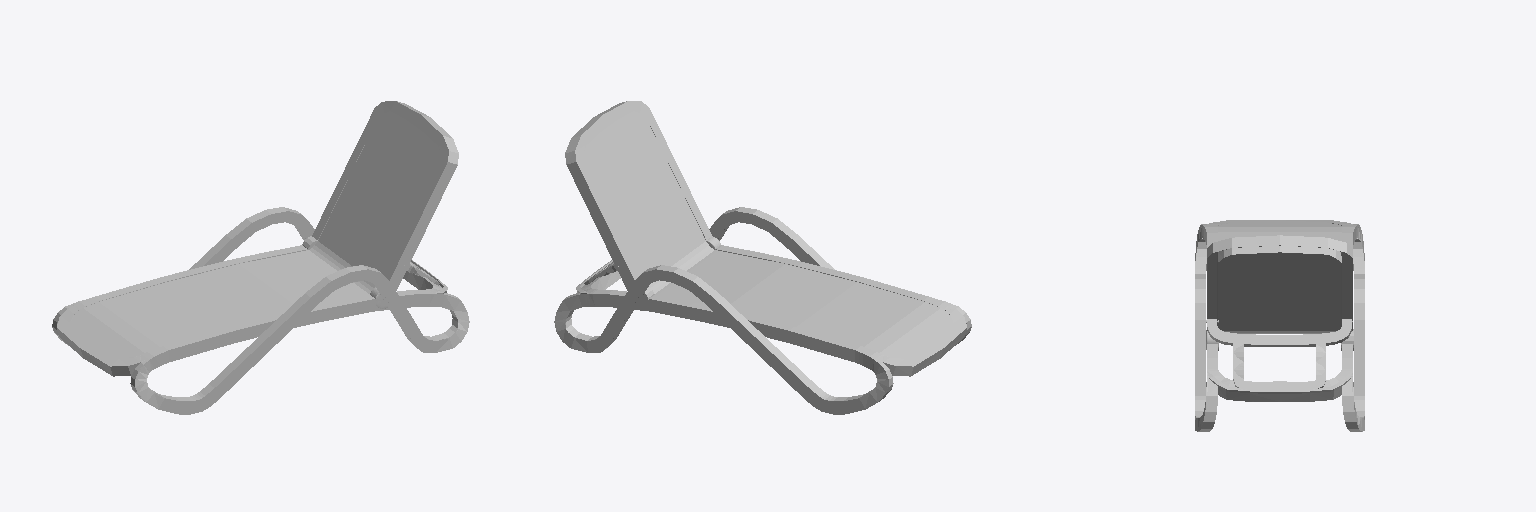
File: Sunlounger low.obj
The picture shows the model from 3 angles: view 1: azimuth 30°, elevation 25°; view 2: azimuth 150°, elevation 25°; view 3: azimuth 270°, elevation 25°; orthographic projection.
Visible parts, largest first — view 1: SunLounger_Fabric, Sunlounger_Body, SunLounger_Head; view 2: SunLounger_Fabric, Sunlounger_Body, SunLounger_Head; view 3: SunLounger_Fabric, Sunlounger_Body, SunLounger_Head, Back_Support.
Part boxes in pixels (x1,y1,x2,y2): SunLounger_Fabric: (71, 111, 439, 357); Sunlounger_Body: (52, 207, 469, 414); SunLounger_Head: (312, 101, 458, 290); SunLounger_Fabric: (585, 111, 952, 357); Sunlounger_Body: (554, 207, 971, 414); SunLounger_Head: (565, 101, 712, 290); SunLounger_Fabric: (1218, 223, 1341, 333); Sunlounger_Body: (1195, 220, 1364, 431); SunLounger_Head: (1207, 235, 1352, 342); Back_Support: (1207, 319, 1351, 389).
Bounding box in the file's own units: 164 × 90.58 × 69.24.